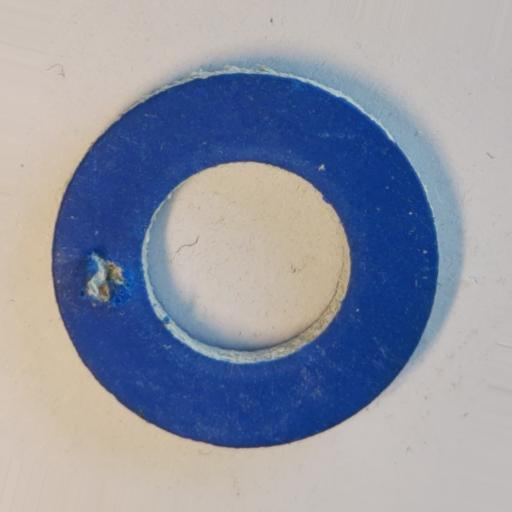defect: (80, 250, 128, 304)
